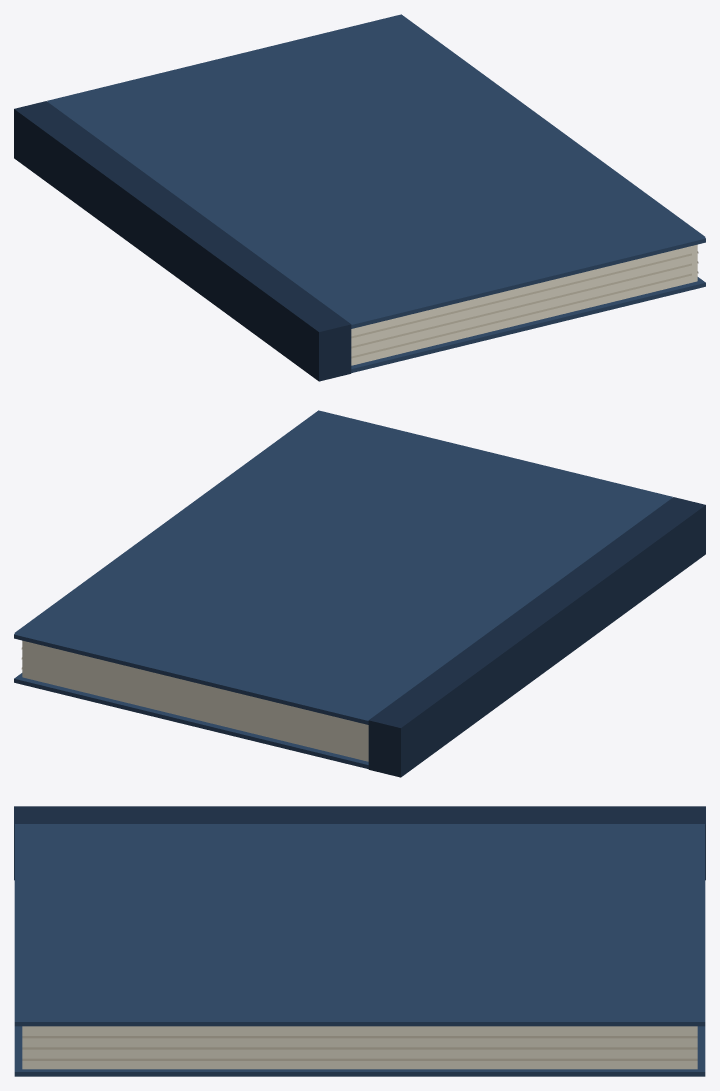
The model's file is notebook.glb.
3 views of the same model, one above another, from view 1: azimuth 30°, elevation 25°; view 2: azimuth 150°, elevation 25°; view 3: azimuth 270°, elevation 25° (orthographic). The views are drawn at different scales.
Visible parts, largest first — view 1: notebook; view 2: notebook; view 3: notebook.
Boxes of the visible parts, x1,y1,x2,y2 form: notebook: (14,14,705,381); notebook: (14,410,705,777); notebook: (14,806,705,1076).
Size of the model in its own units: 0.1615 by 0.0198 by 0.2204.
